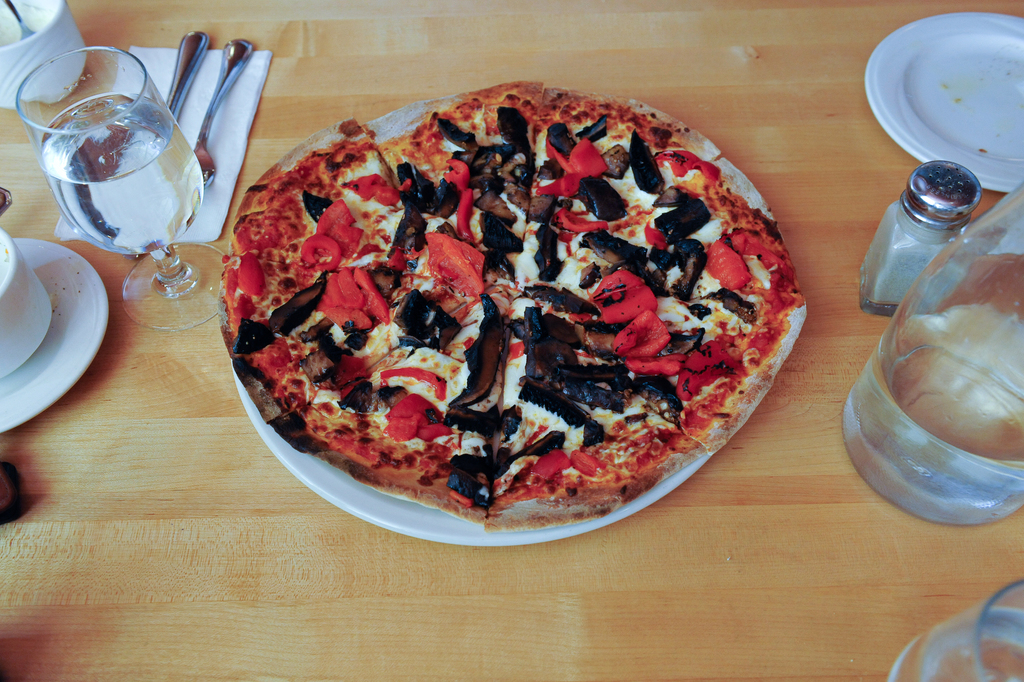Pizza: (187, 82, 821, 538)
